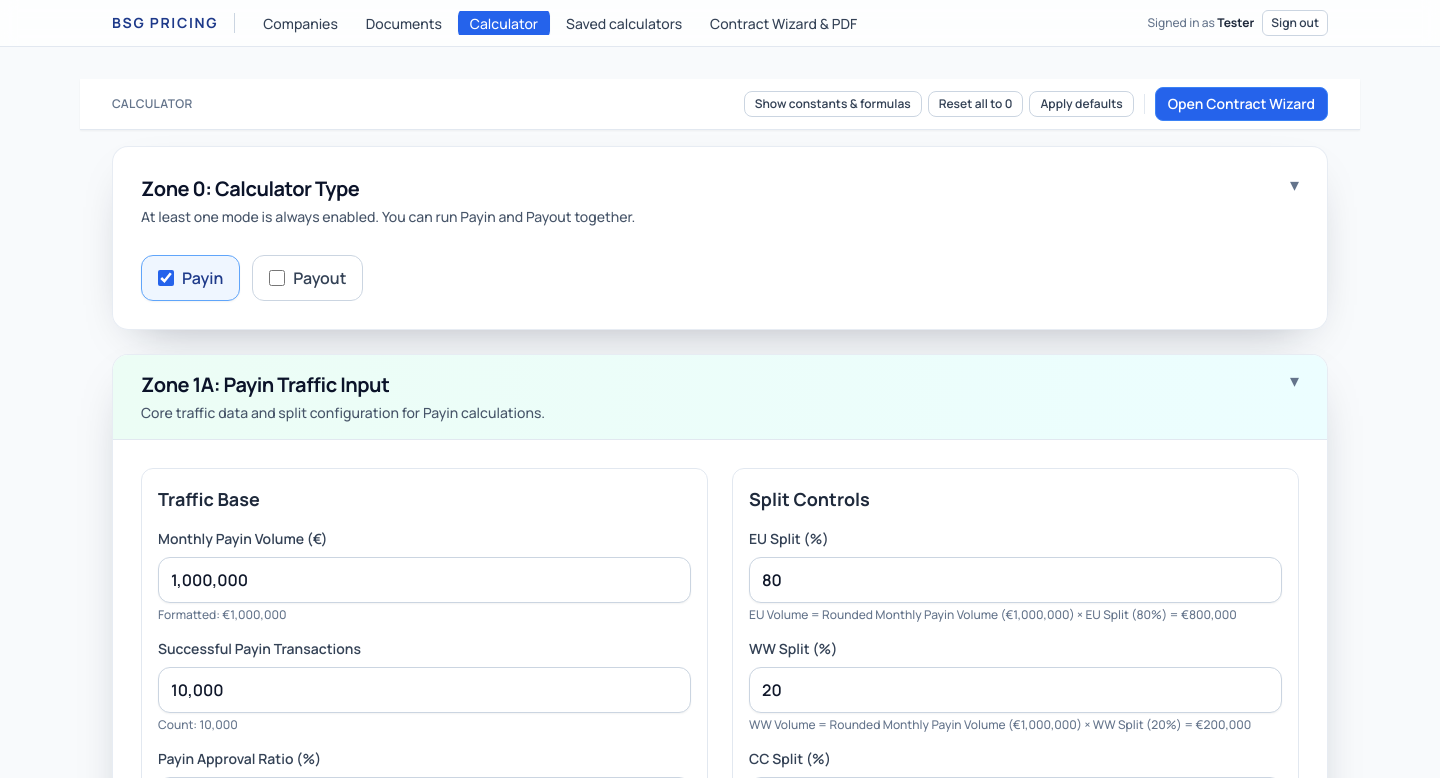
Test case: App core flow › formats number input with commas and decimal point on blur
The image size is (1440, 778).
Replace the text in the field labelled "Monthly Payin Volume (€)" with "1234567.89" at (424, 580), box 158,557 -> 691,603
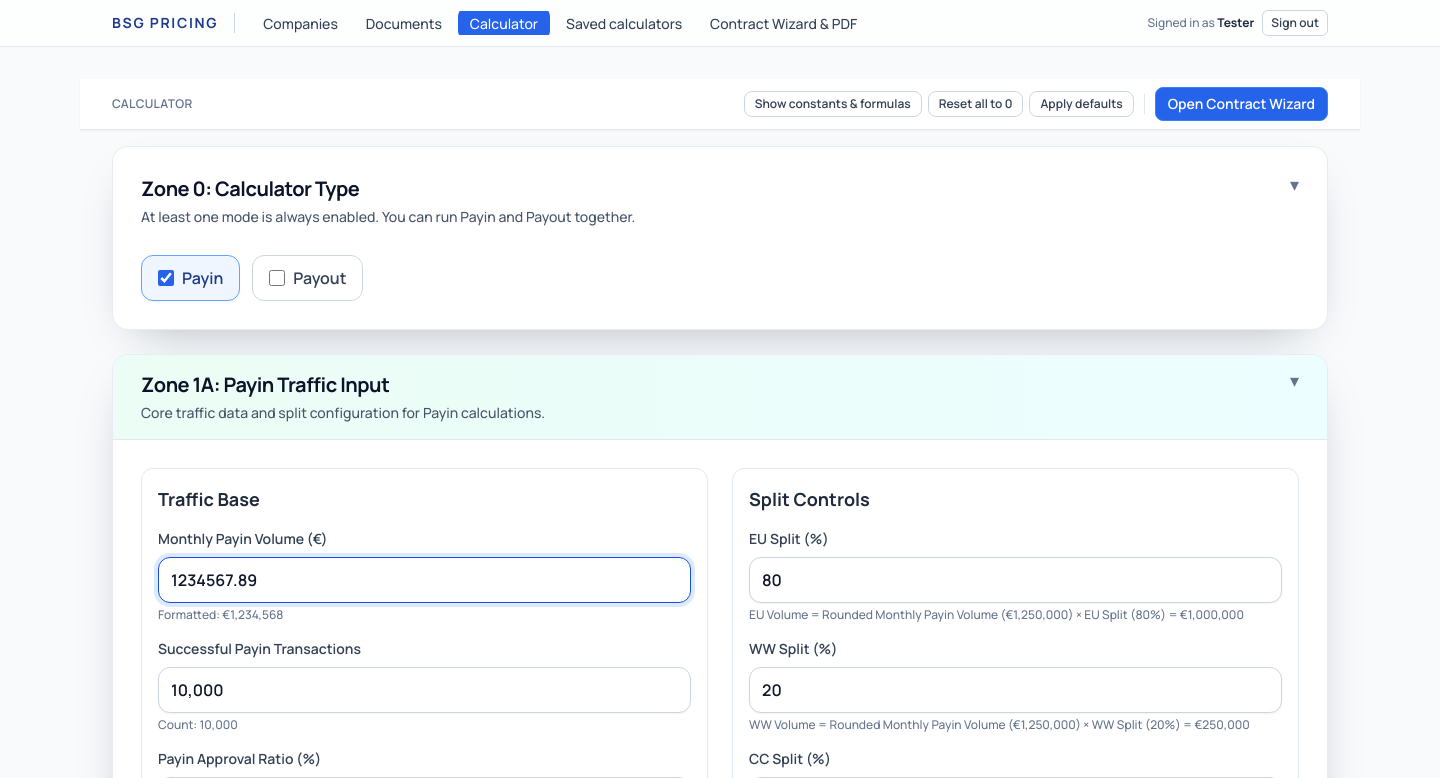
Press Tab
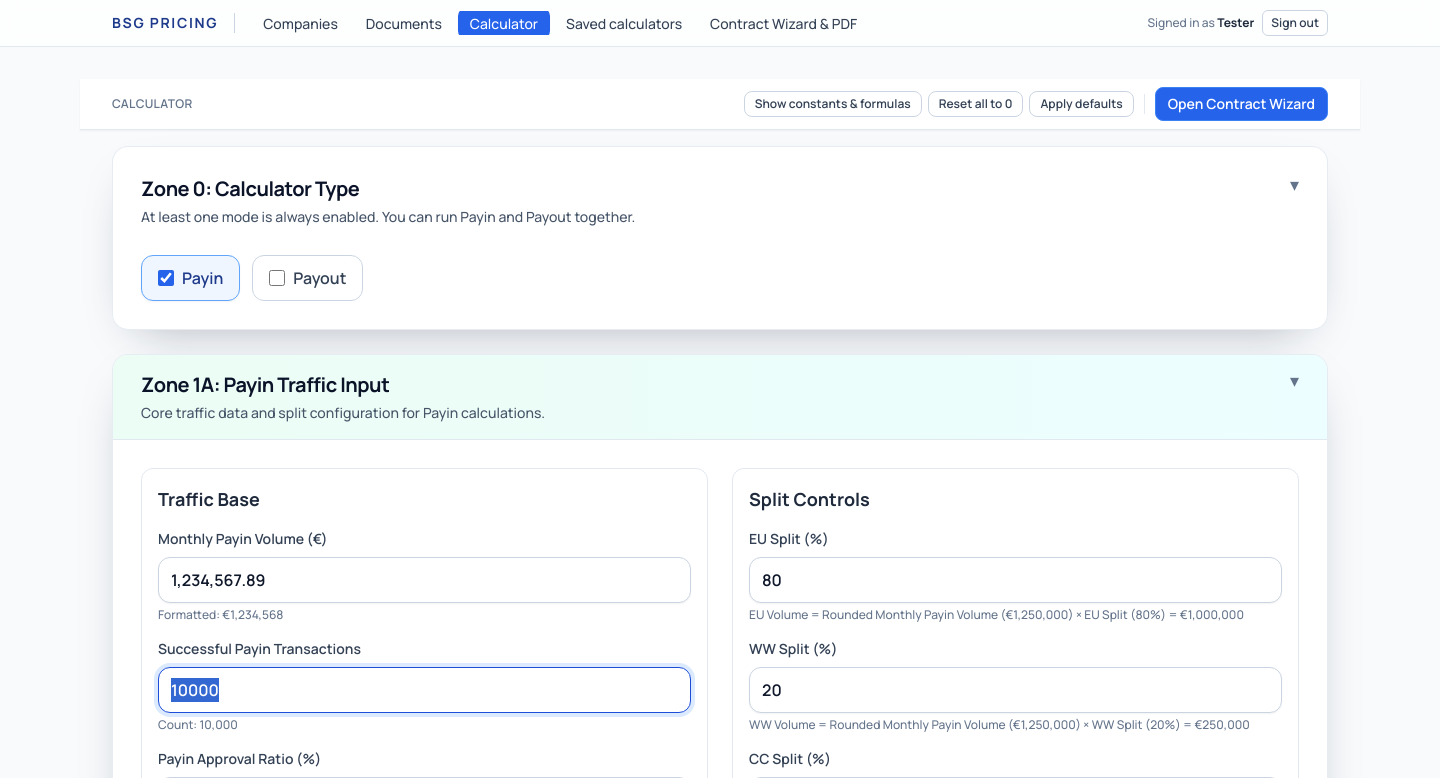
expect the field labelled "Monthly Payin Volume (€)" holds "1,234,567.89": met, box 158,557 -> 691,603
